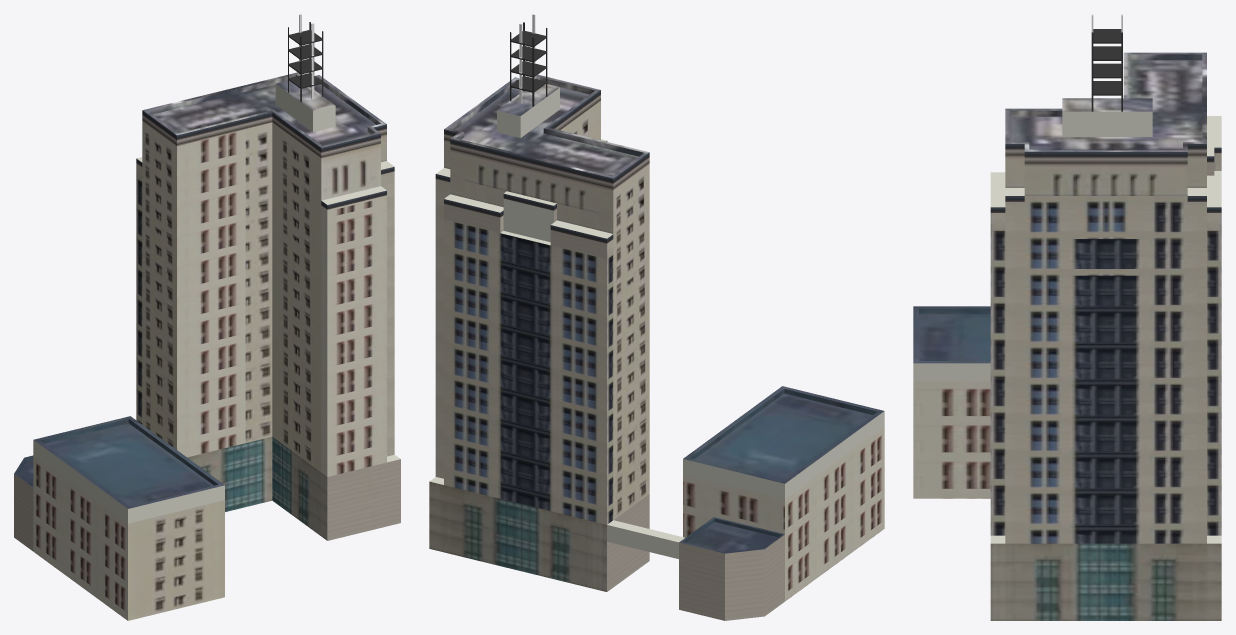
The model's file is fengli_building_3c4d265b.glb.
3 renders of one model, left to right at view 1: azimuth 30°, elevation 25°; view 2: azimuth 150°, elevation 25°; view 3: azimuth 270°, elevation 25°, orthographic. The views are drawn at different scales.
Parts seen in each view (by area): view 1: fengli_building_3c4d265b; view 2: fengli_building_3c4d265b; view 3: fengli_building_3c4d265b.
Boxes of the visible parts, x1=… form: fengli_building_3c4d265b: x1=14, y1=14, x2=400, y2=620; fengli_building_3c4d265b: x1=429, y1=14, x2=884, y2=620; fengli_building_3c4d265b: x1=913, y1=14, x2=1221, y2=620.
Bounding box in the file's own units: 69.83 × 105 × 50.66.
1 material, 1 textured.
